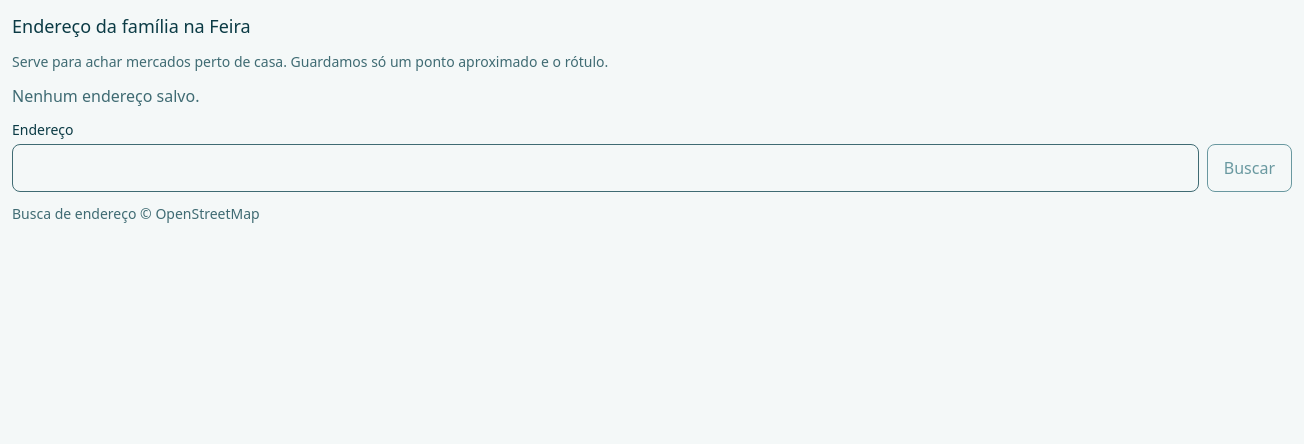
Test: MarketHomeSection › storesOnlyPointAndLabel
Later steps or results of the test are not shown.
Type "Rua Exemplo 10, Cidade Exemplo" into the field labelled "Endereço" at (605, 168), box [12,144,1199,192]
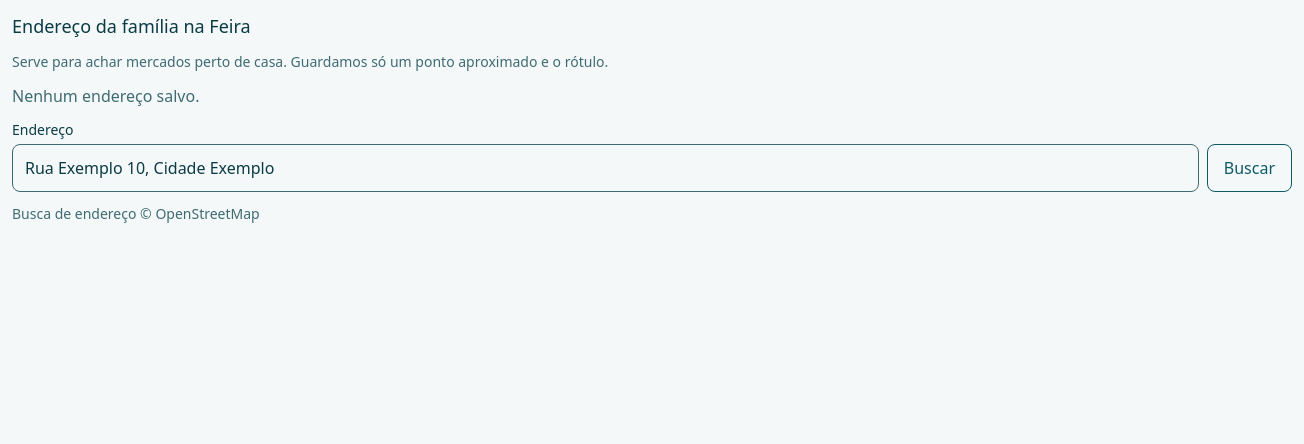
Click the button "Buscar" at (1249, 168), box [1207,144,1292,192]
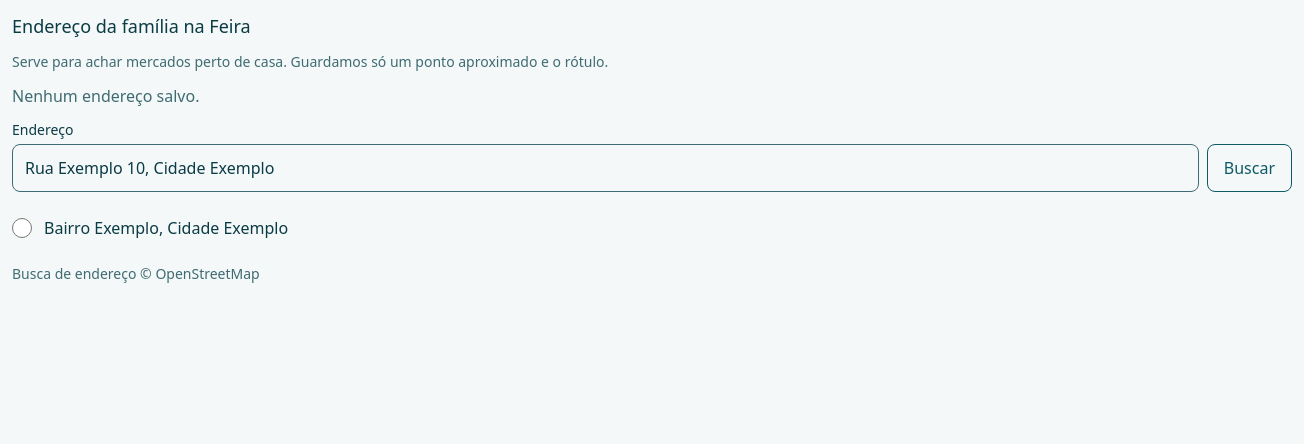
Click the radio button labelled "Bairro Exemplo, Cidade Exemplo" at (22, 228), box [12,218,32,238]
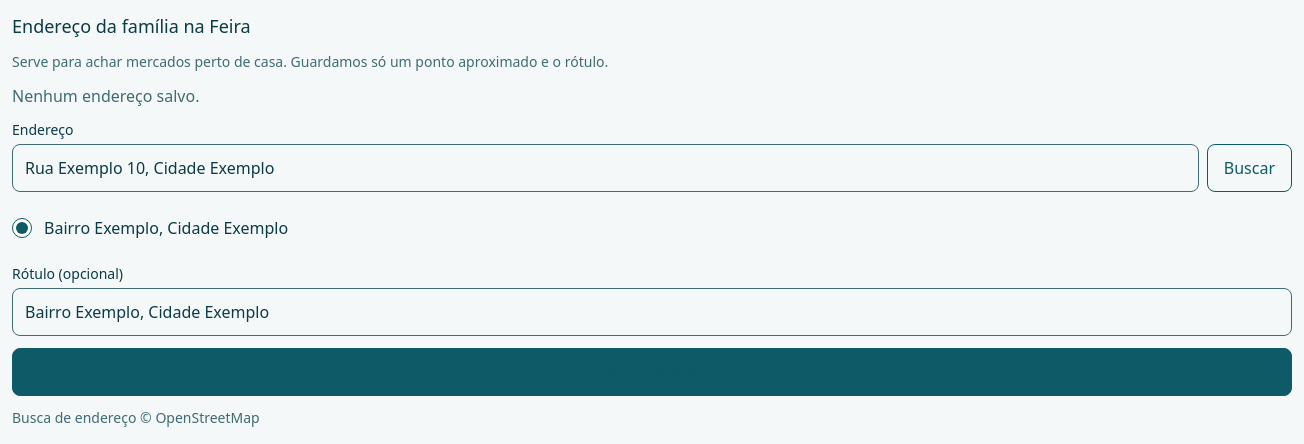
Check: the field labelled "Rótulo (opcional)" holds "Bairro Exemplo, Cidade Exemplo", box [12,288,1292,336]
